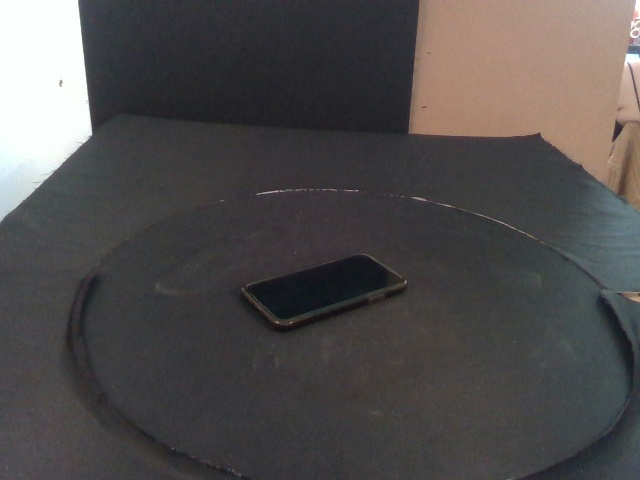phone: (242, 252, 407, 332)
